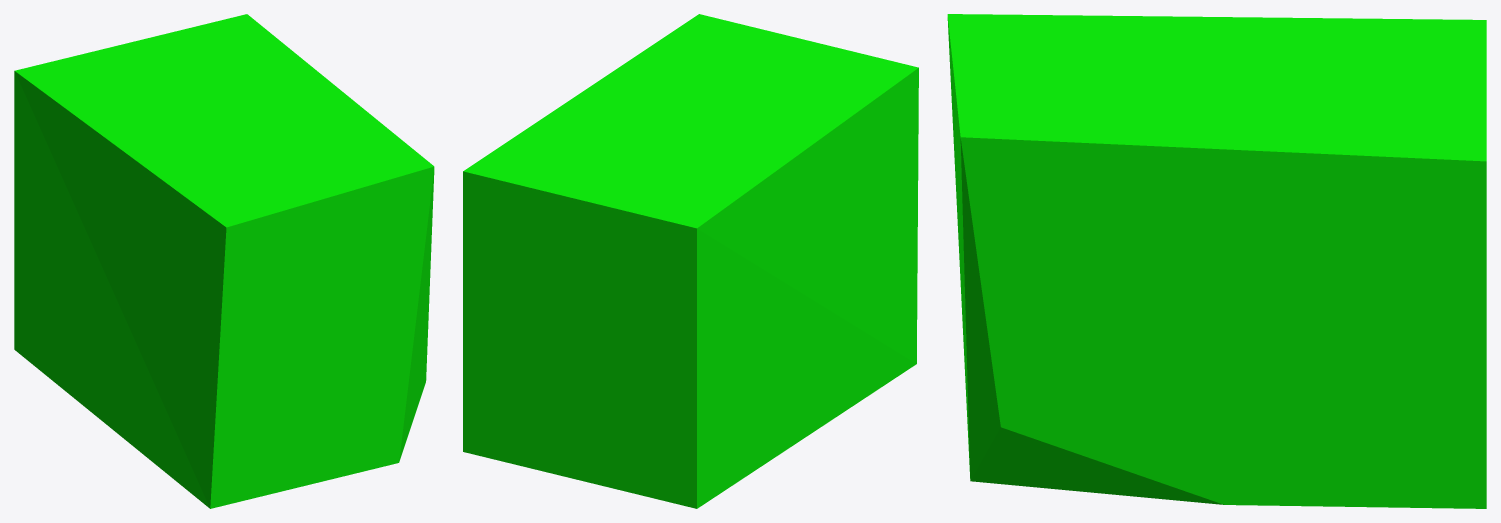
Rendered from SM_Wall_Beam_Horizontal_Corner_Out_A_End_A.fbx.
The picture shows the model from 3 angles, left to right: view 1: azimuth 30°, elevation 25°; view 2: azimuth 150°, elevation 25°; view 3: azimuth 270°, elevation 25°; orthographic projection. The views are drawn at different scales.
Parts seen in each view (by area): view 1: wall-beam-horizontal-corner-out-a-end-a; view 2: wall-beam-horizontal-corner-out-a-end-a; view 3: wall-beam-horizontal-corner-out-a-end-a.
Part boxes in pixels (x1,y1,x2,y2): wall-beam-horizontal-corner-out-a-end-a: [14, 14, 434, 508]; wall-beam-horizontal-corner-out-a-end-a: [463, 14, 918, 508]; wall-beam-horizontal-corner-out-a-end-a: [947, 14, 1486, 508].
Bounding box in the file's own units: 0.2606 × 0.2974 × 0.4.
